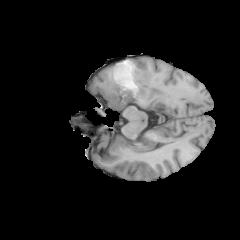glioma: (98, 59, 153, 107)
